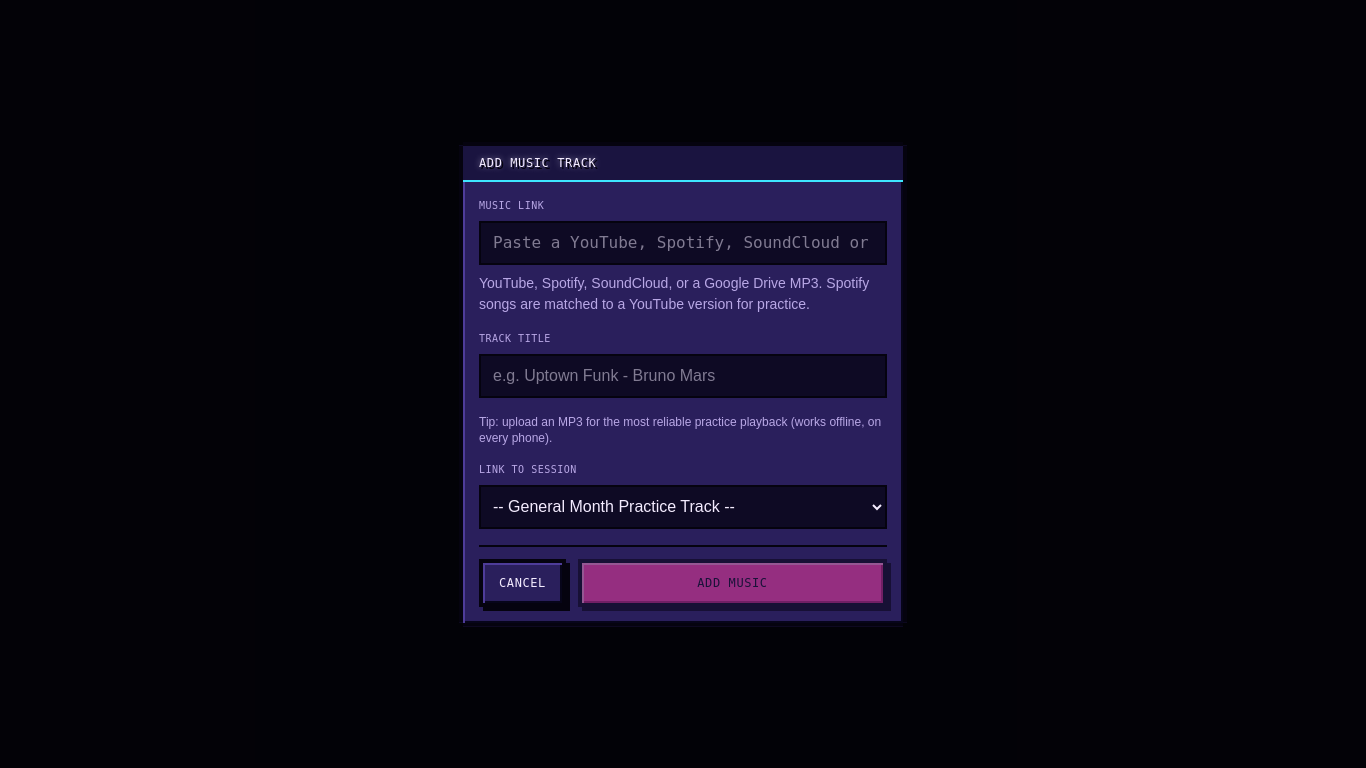
it: MusicForm › shows why a link is unsupported and cannot be saved
Type "https://tiktok.com/@x/video/1" into the field with placeholder "Paste a YouTube, Spotify, SoundCloud or Drive MP3 link". click: (683, 242)
box: [479,220,887,264]
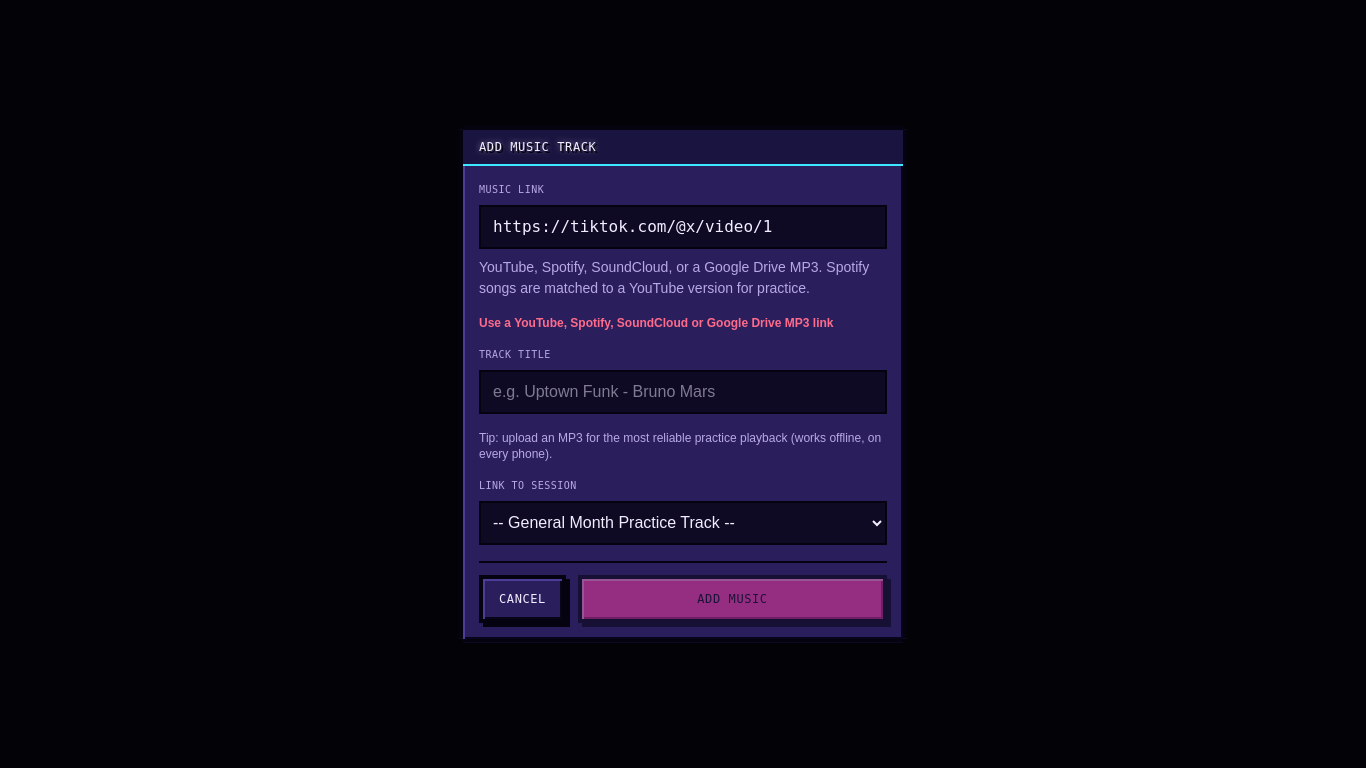
Expected: the button "ADD MUSIC" is disabled, [578,574,887,622]
Now the text "Use a YouTube, Spotify, SoundCloud or Google Drive MP3 link" is shown, box [479,314,887,330]
